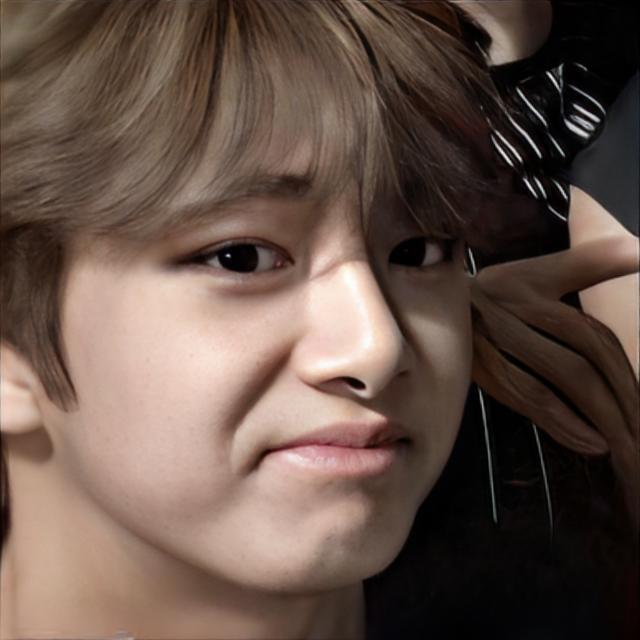disgust: (44, 21, 472, 594)
